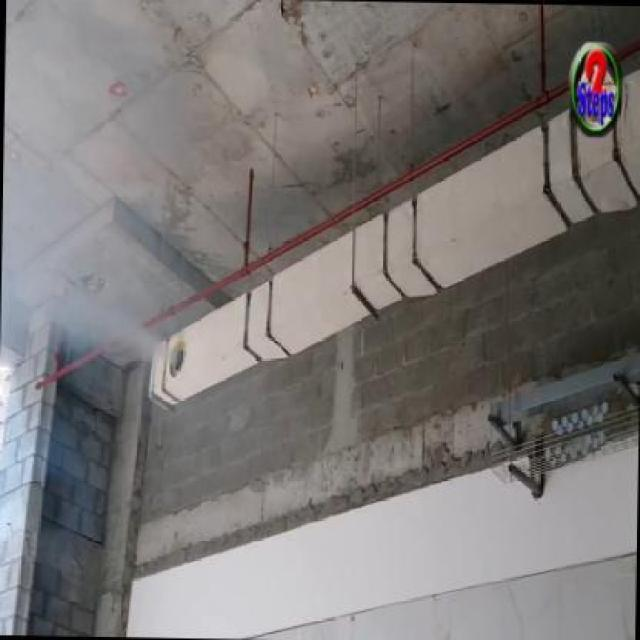fire: (46, 285, 174, 370)
